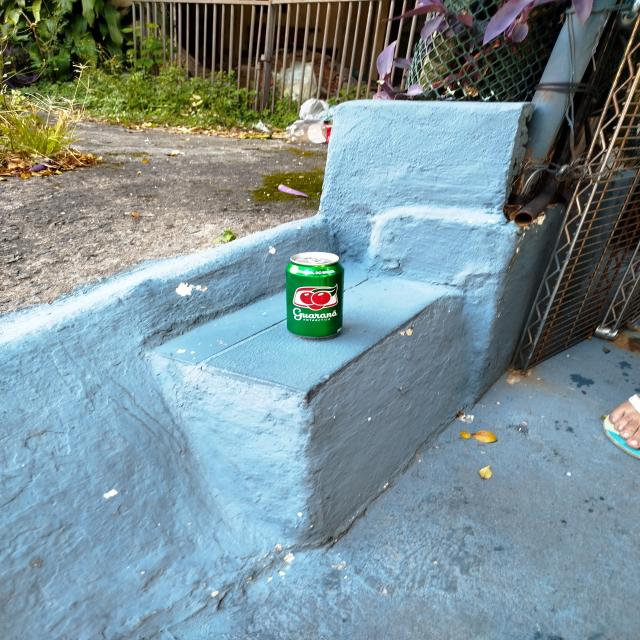Guarana: (285, 252, 345, 338)
